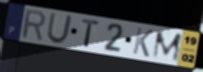2: (102, 22, 125, 54)
K: (131, 26, 155, 59)
M: (151, 30, 184, 63)
R: (21, 8, 47, 42)
T: (81, 18, 101, 49)
U: (46, 12, 74, 45)
